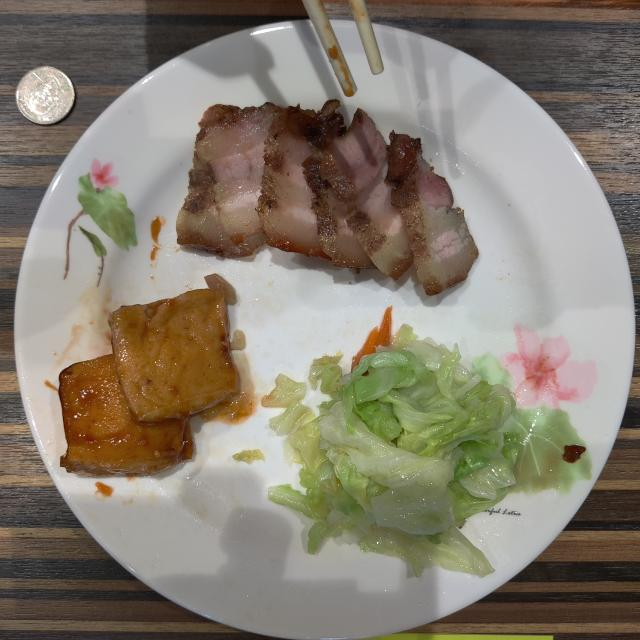cabbage: (262, 325, 521, 576)
coin: (16, 66, 75, 125)
creamy tofu: (59, 289, 238, 476)
red grilled pork: (176, 100, 478, 295)
